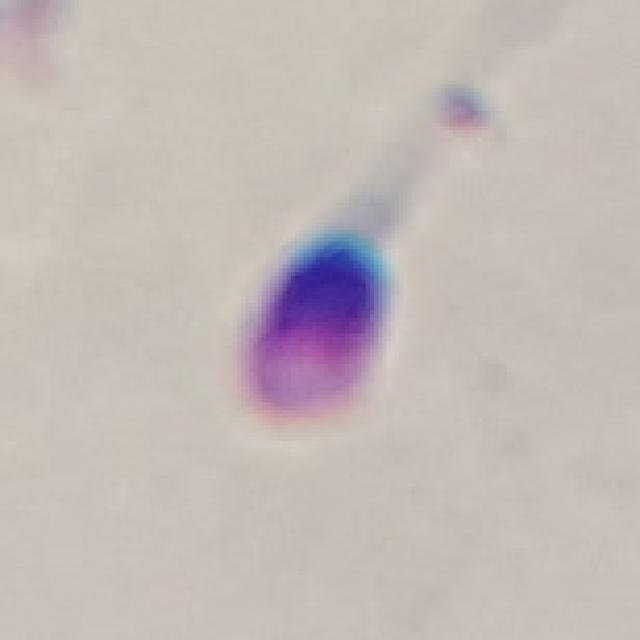normal sperm: (236, 127, 456, 432)
